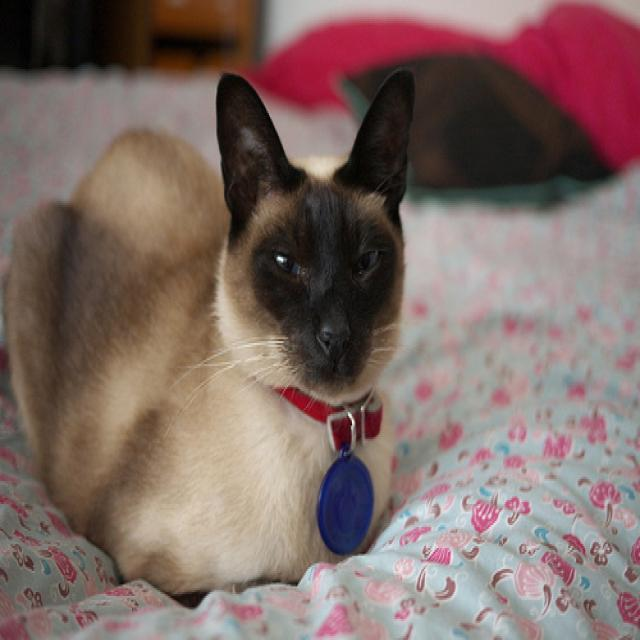Siamese: (204, 50, 418, 420)
